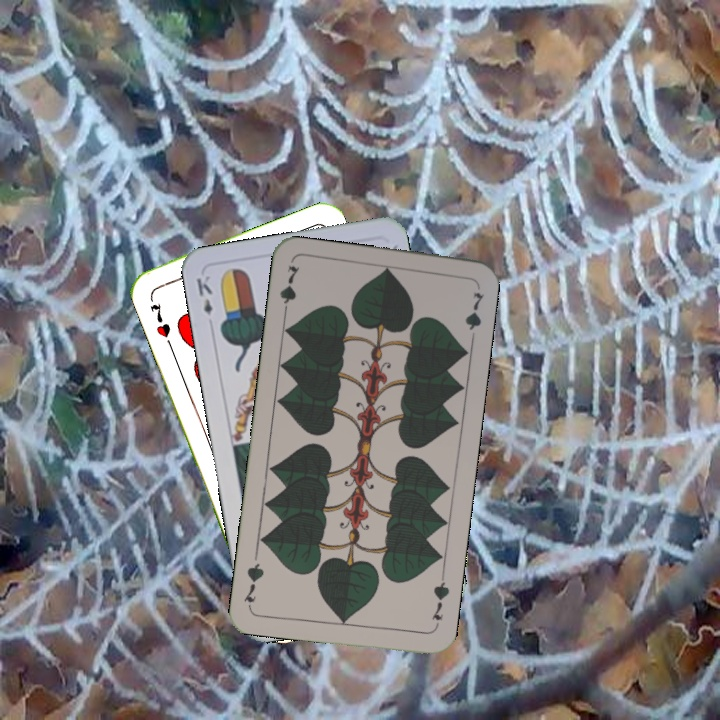EK: (192, 271, 215, 318)
G7: (276, 261, 302, 320), (427, 572, 452, 623)
H7: (146, 298, 173, 340)
